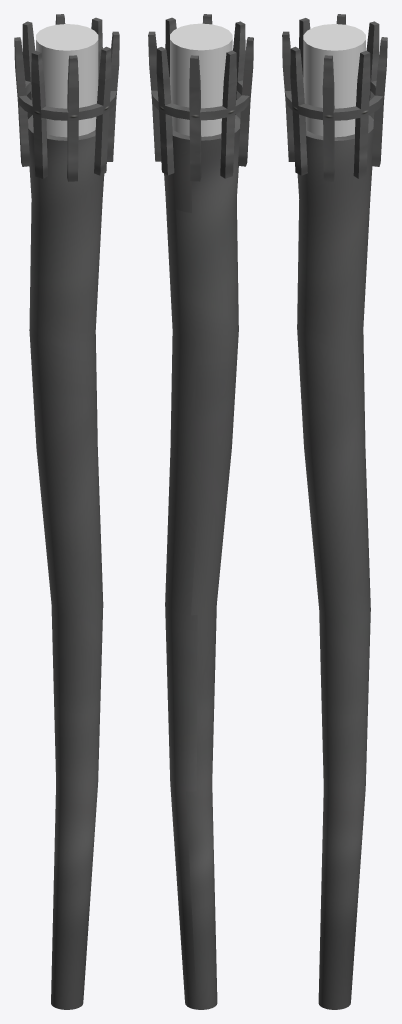
File: fire.FBX
3 views of the same model, side by side, from view 1: azimuth 30°, elevation 25°; view 2: azimuth 150°, elevation 25°; view 3: azimuth 330°, elevation 25° (orthographic).
Parts seen in each view (by area): view 1: Cone001, Cone002, Cylinder001; view 2: Cone001, Cone002, Cylinder001; view 3: Cone001, Cone002, Cylinder001.
Boxes of the visible parts, x1,y1,x2,y2 form: Cone001: [28, 115, 104, 1009]; Cone002: [14, 14, 119, 181]; Cylinder001: [36, 24, 98, 137]; Cone001: [164, 115, 240, 1009]; Cone002: [148, 14, 253, 181]; Cylinder001: [170, 23, 232, 136]; Cone001: [297, 115, 373, 1009]; Cone002: [282, 14, 387, 181]; Cylinder001: [303, 24, 365, 137].
Bounding box in the file's own units: 12.44 × 132 × 12.46.
Materials: 2 (2 with a texture image).
